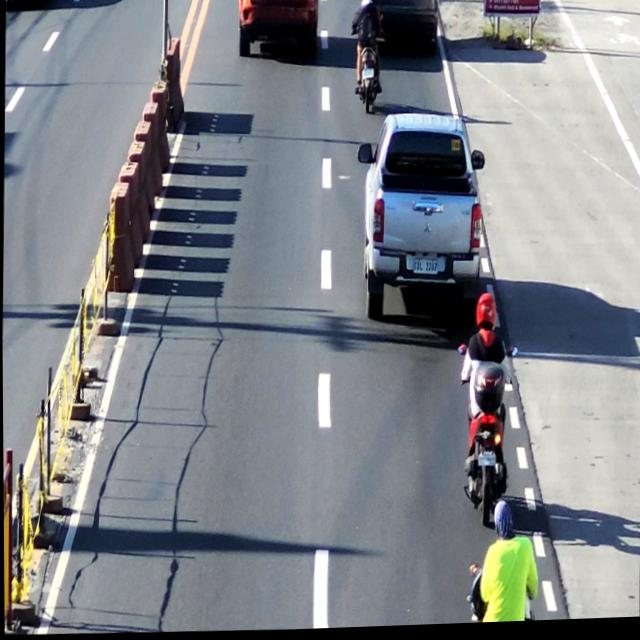Car: (361, 115, 487, 299), (239, 0, 317, 61), (383, 0, 449, 59)
License-Plate: (406, 260, 441, 284), (474, 448, 498, 477), (360, 70, 375, 85)
Motorcycle: (458, 298, 513, 521), (467, 495, 538, 626), (351, 0, 383, 121)
